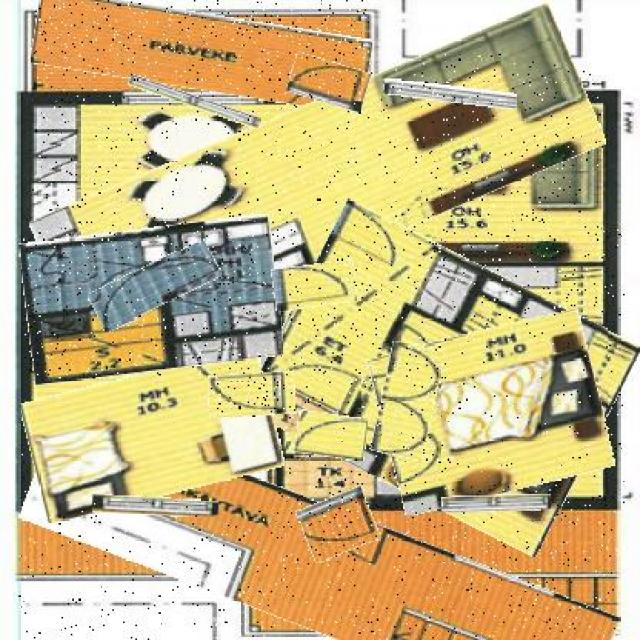door: (89, 252, 220, 320), (375, 344, 440, 458), (298, 492, 377, 557), (289, 57, 369, 108), (272, 262, 357, 309), (210, 372, 296, 417), (295, 412, 368, 457)
window: (128, 85, 262, 117), (383, 83, 517, 105), (92, 496, 218, 516), (440, 495, 551, 511)
zone: (32, 54, 603, 311), (19, 454, 618, 640), (258, 229, 624, 526), (375, 320, 608, 505), (23, 222, 280, 378), (26, 360, 279, 511), (32, 0, 370, 100)
